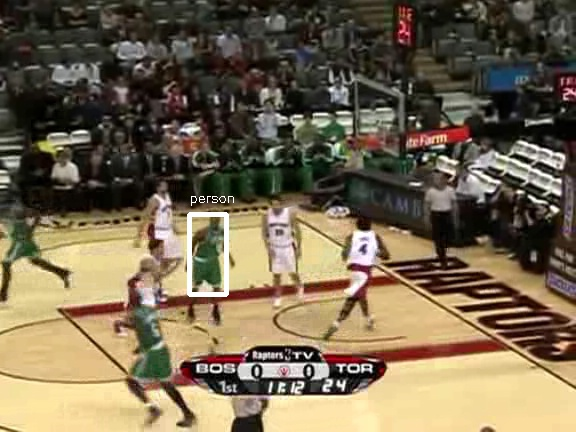person: (195, 214, 229, 295), (194, 214, 228, 295), (196, 214, 230, 295), (195, 213, 229, 294), (195, 215, 229, 296)
target_negative: (380, 175, 513, 262), (373, 222, 458, 324), (328, 240, 401, 341), (551, 217, 567, 431), (2, 387, 83, 429), (71, 430, 481, 431)
